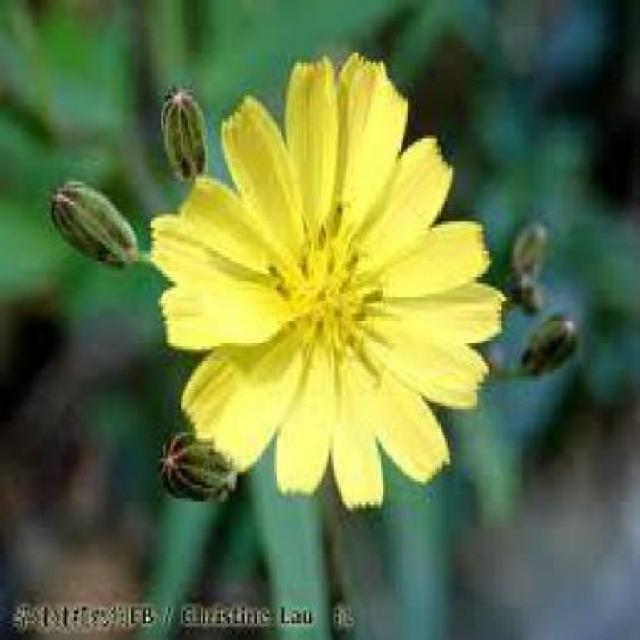flower: (148, 38, 497, 490)
